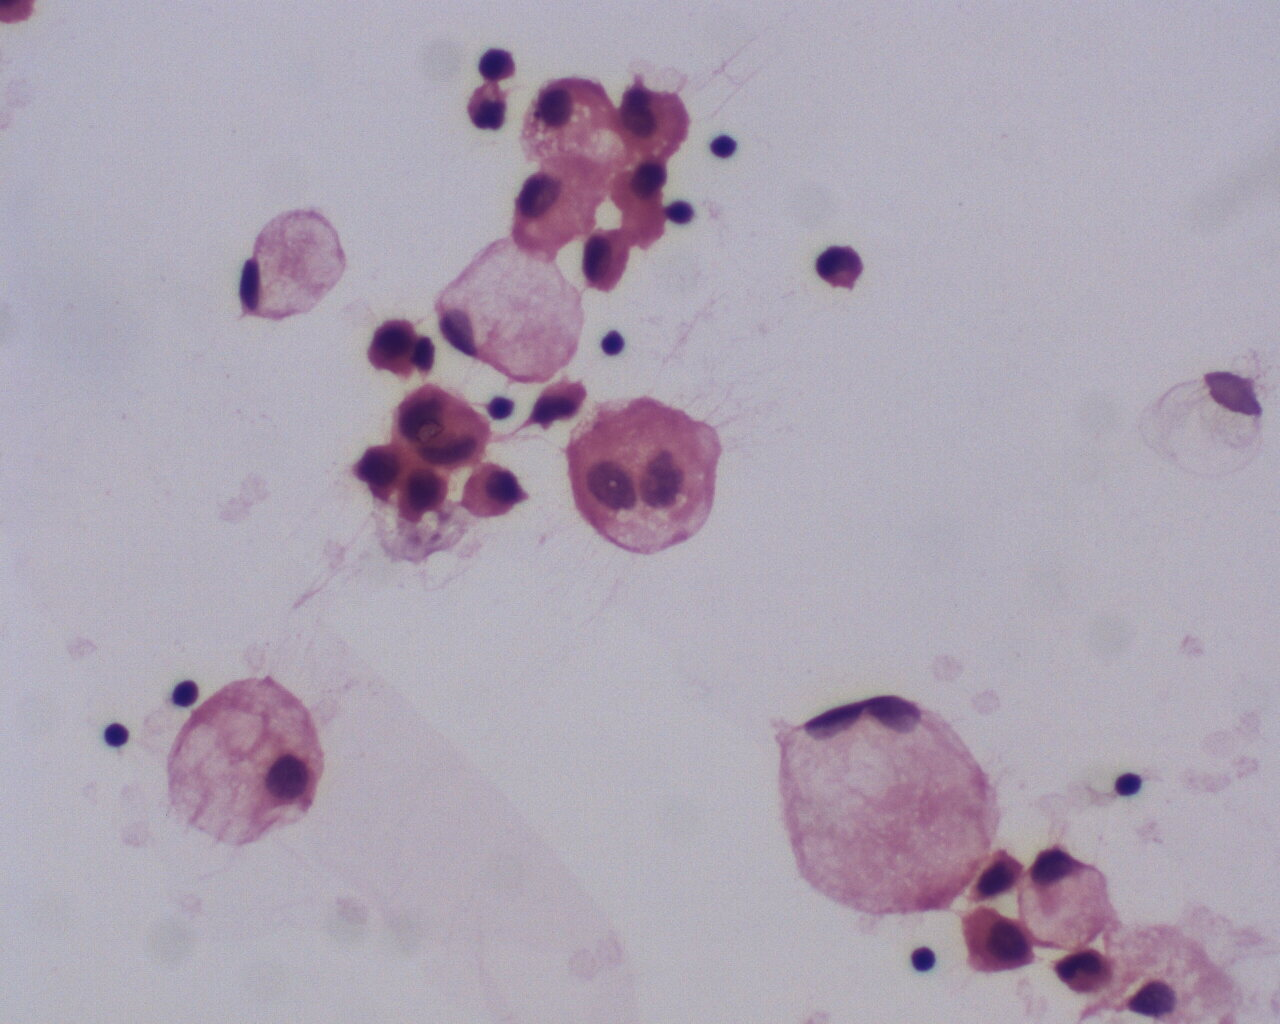histo: (768, 689, 1000, 921), (164, 678, 324, 847), (430, 237, 591, 383), (232, 197, 359, 326), (1017, 844, 1114, 954)
lymph: (93, 718, 135, 760), (702, 123, 743, 165), (599, 318, 633, 362), (1110, 772, 1145, 802)
meso: (959, 905, 1037, 981), (461, 460, 523, 525)
